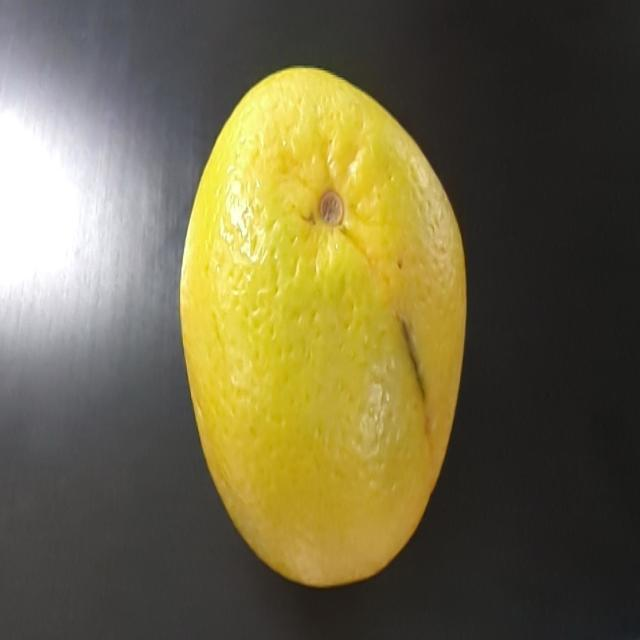Jeruk: (179, 16, 479, 626)
